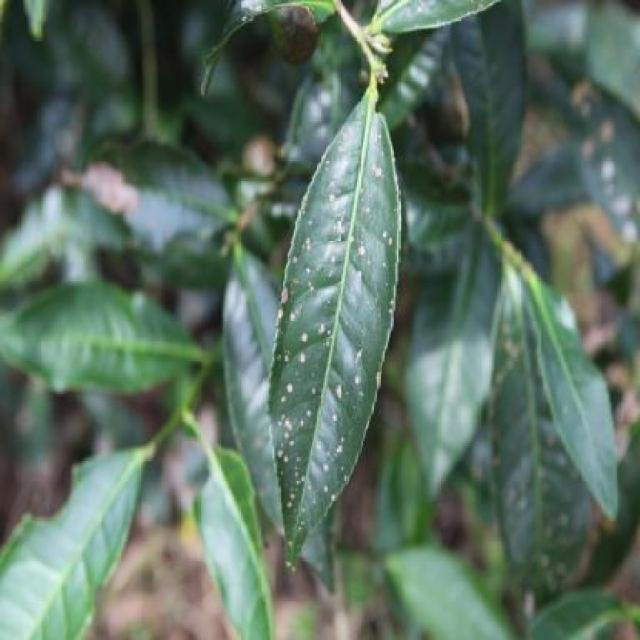Leaf rust of tea: (270, 95, 402, 560)
